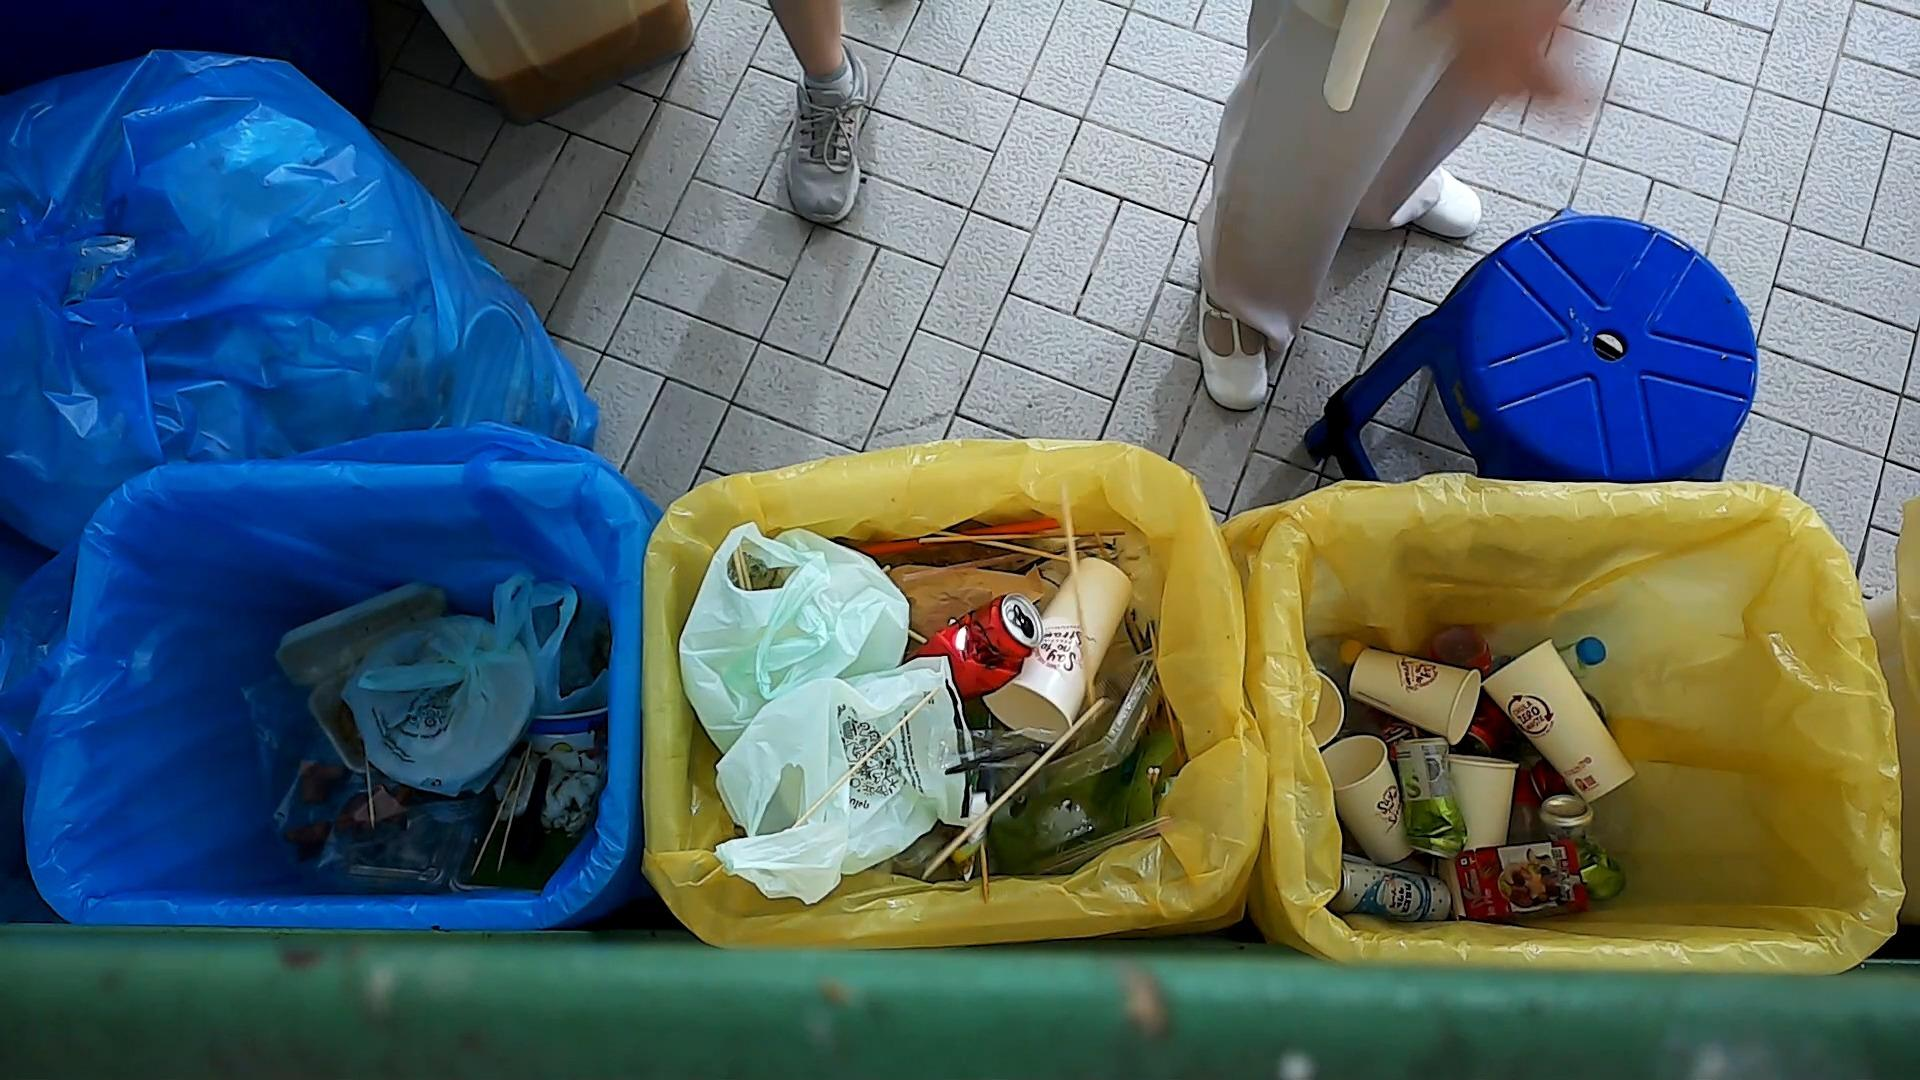can: (914, 589, 1047, 711), (1532, 791, 1630, 909), (1391, 733, 1470, 864), (1328, 858, 1455, 926)
dirty food container: (450, 738, 611, 895)
filled plastic bag: (676, 513, 914, 783), (335, 563, 545, 804), (522, 570, 616, 719)
food container: (992, 641, 1163, 808), (520, 704, 617, 756)
paper bag: (887, 560, 1051, 640)
plastic bag: (703, 644, 985, 910)
plastic cutlery: (919, 723, 1095, 782)
snack packaging: (1452, 836, 1594, 923)
sticks: (920, 692, 1112, 884), (786, 683, 943, 835), (1054, 477, 1105, 729), (468, 745, 525, 880), (932, 526, 1073, 563), (915, 525, 1131, 547), (496, 742, 530, 874)
straw: (894, 549, 1035, 583)
zero waste cup: (984, 553, 1139, 746), (1477, 634, 1639, 810), (1433, 749, 1520, 923), (1345, 642, 1484, 748), (1321, 731, 1416, 866)
